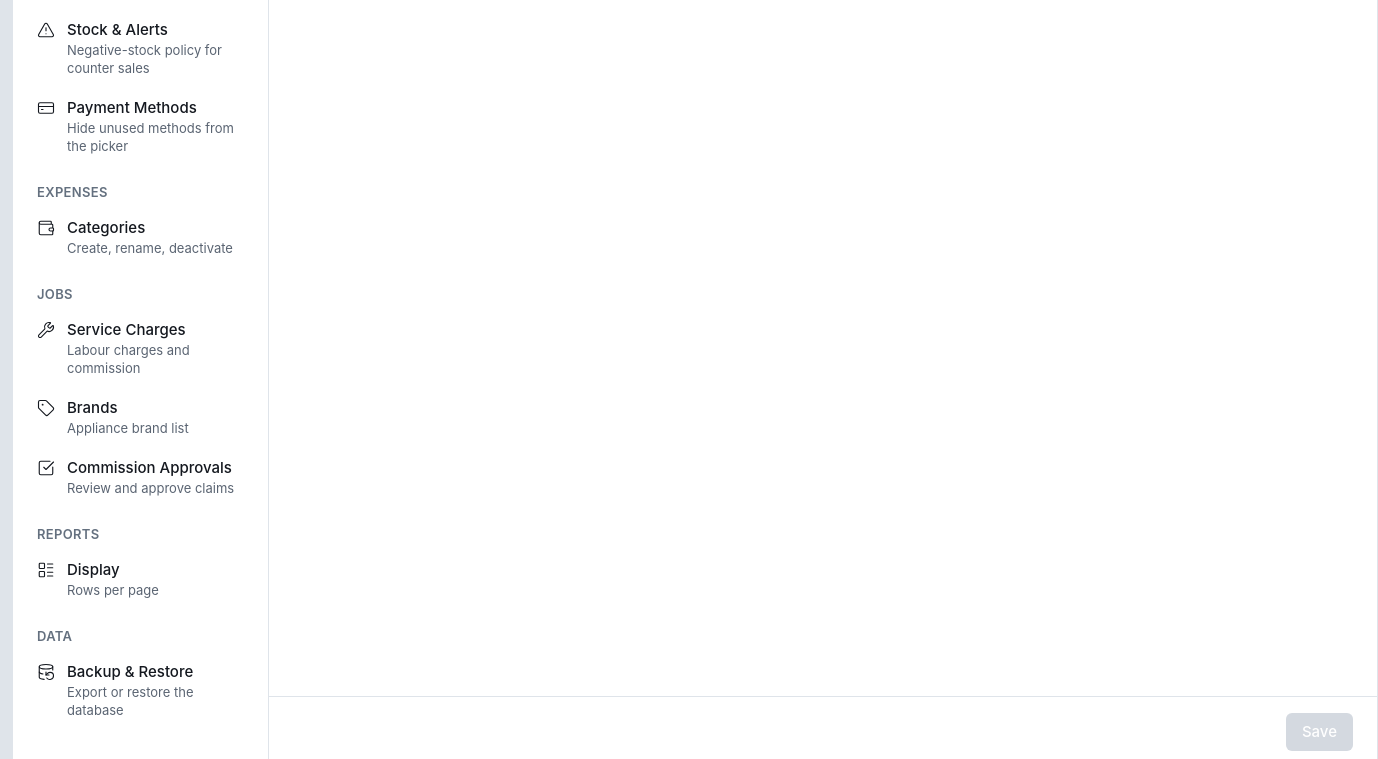
Scenario: SettingsPage — P16-1b routing (OD-16-11) › clicking "Brands" in the sub-nav routes to its section and shows its title
The width and height of the screenshot is (1378, 759).
(page scrolled)
Click the link "Brands Appliance brand list" at (113, 417), box x1=37 y1=398 x2=189 y2=436
(page scrolled)
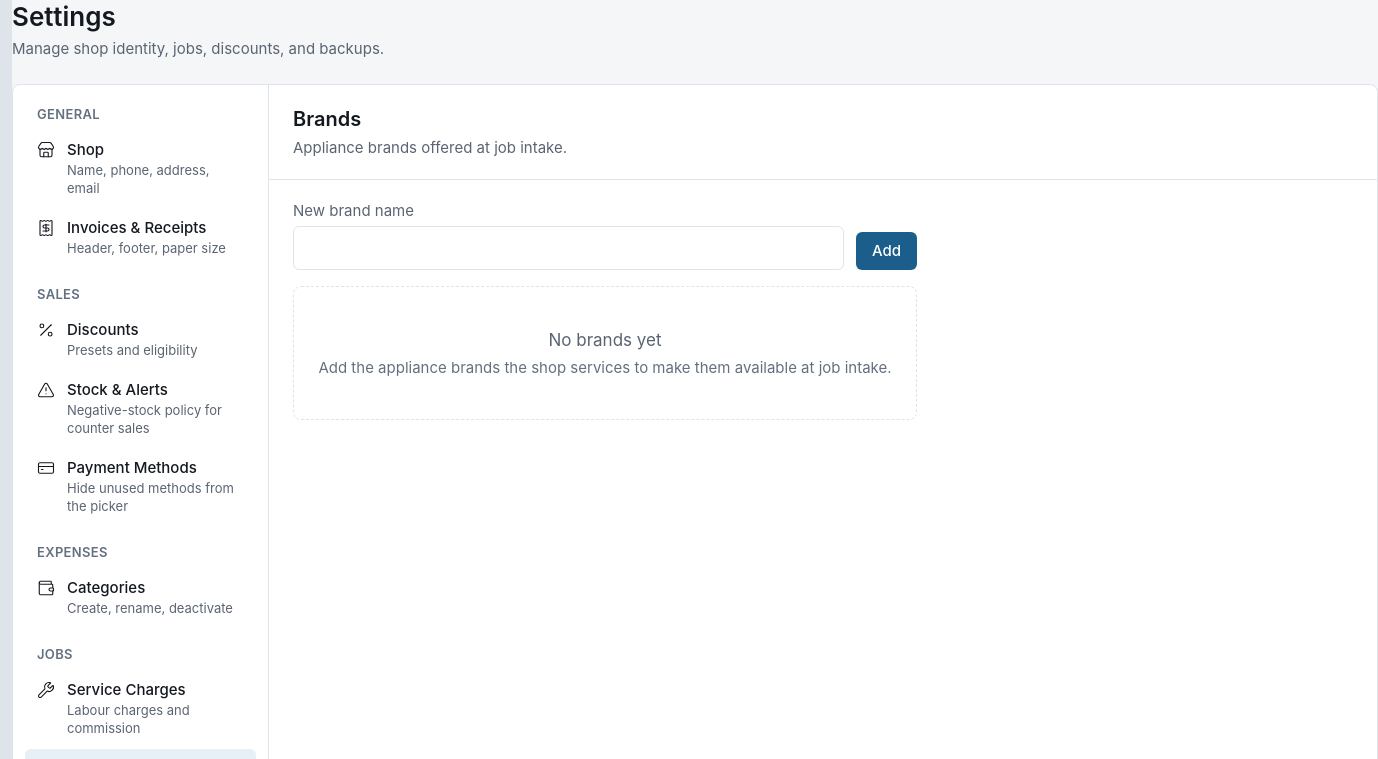
Now the heading "Brands" is shown, box x1=293 y1=107 x2=361 y2=131
